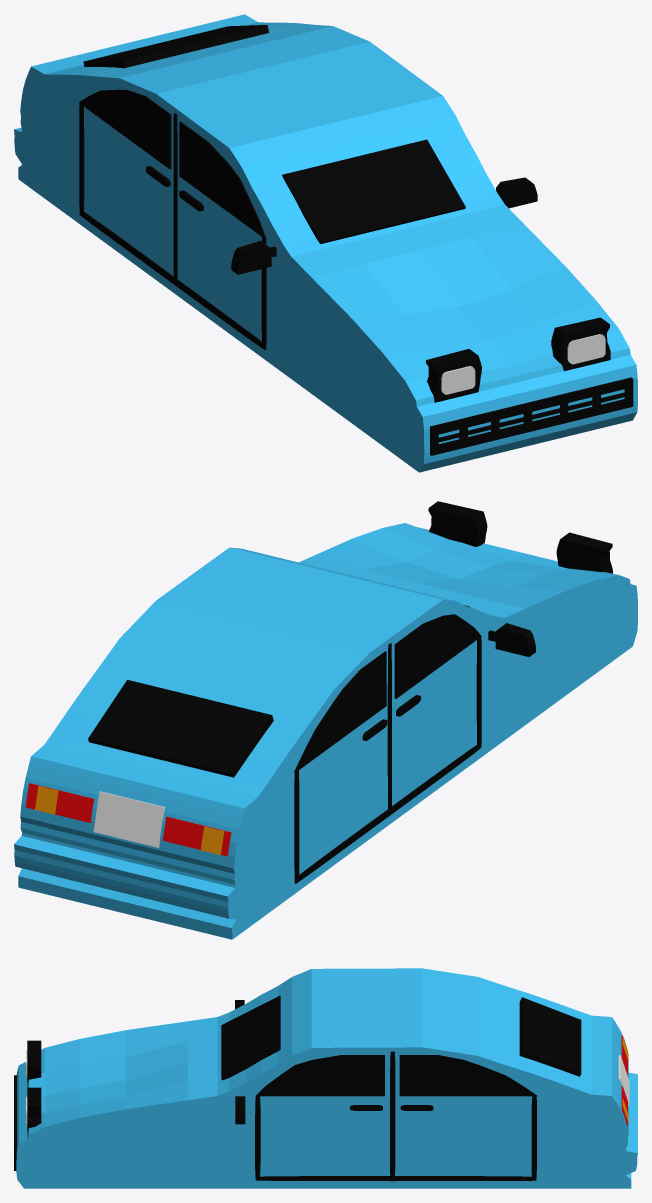
Rendered from car1.fbx.
3 views of the same model, one above another, from view 1: azimuth 30°, elevation 25°; view 2: azimuth 150°, elevation 25°; view 3: azimuth 270°, elevation 25° (orthographic). The views are drawn at different scales.
Visible parts, largest first — view 1: Куб, Куб.001, Куб.012, Куб.011, Куб.002, Куб.029, Куб.028, Куб.034, Куб.035, Куб.013, Куб.037, Куб.030 (+4 smaller); view 2: Куб, Куб.002, Куб.011, Куб.012, Куб.019, Куб.034, Куб.035, Куб.013, Куб.038, Куб.041, Куб.037, Куб.016 (+1 smaller); view 3: Куб, Куб.004, Куб.003, Куб.002, Куб.001, Куб.010, Куб.007, Куб.034, Куб.035, Куб.009, Куб.008, Куб.019.
Part boxes in pixels (box(x1,y1,x2,y2)): Куб: box(14, 14, 637, 472); Куб.001: box(282, 139, 465, 243); Куб.012: box(179, 121, 266, 238); Куб.011: box(79, 89, 171, 169); Куб.002: box(83, 25, 268, 68); Куб.029: box(430, 377, 633, 436); Куб.028: box(430, 398, 633, 455); Куб.034: box(551, 317, 610, 371); Куб.035: box(426, 349, 481, 402); Куб.013: box(79, 211, 266, 349); Куб.037: box(231, 240, 271, 274); Куб.030: box(496, 177, 537, 208); Куб: box(14, 523, 637, 939); Куб.002: box(88, 680, 273, 777); Куб.011: box(294, 651, 386, 772); Куб.012: box(394, 614, 481, 698); Куб.019: box(93, 791, 165, 847); Куб.034: box(428, 501, 487, 546); Куб.035: box(556, 532, 612, 573); Куб.013: box(294, 743, 481, 883); Куб.038: box(25, 783, 94, 822); Куб.041: box(162, 816, 231, 856); Куб.037: box(495, 623, 535, 656); Куб.016: box(387, 643, 391, 808); Куб: box(16, 968, 637, 1188); Куб.004: box(399, 1055, 537, 1096); Куб.003: box(256, 1055, 384, 1096); Куб.002: box(519, 997, 581, 1076); Куб.001: box(221, 995, 280, 1080); Куб.010: box(255, 1176, 536, 1180); Куб.007: box(390, 1051, 395, 1181); Куб.034: box(27, 1087, 41, 1132); Куб.035: box(27, 1040, 41, 1083); Куб.009: box(255, 1096, 260, 1178); Куб.008: box(531, 1096, 536, 1177); Куб.019: box(618, 1055, 629, 1106).
Bounding box in the file's own units: 1505 × 893 × 3577.
